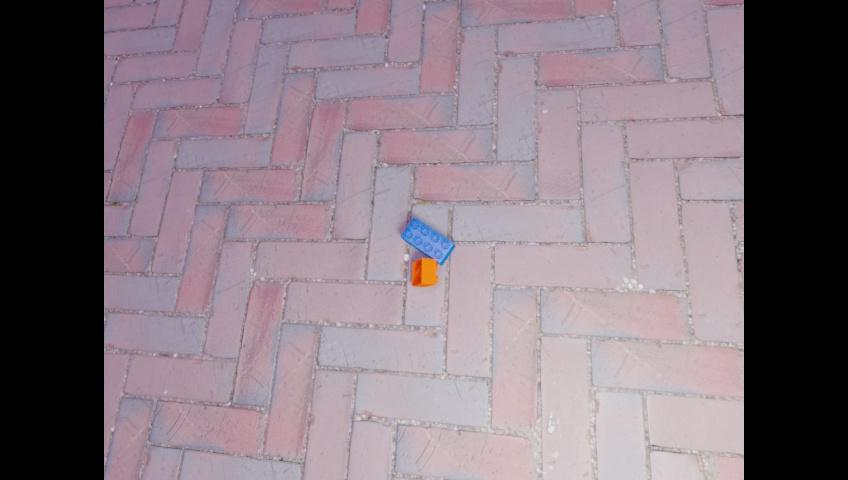2x2_orange: (411, 257, 437, 287)
4x2_blue: (400, 217, 454, 265)
